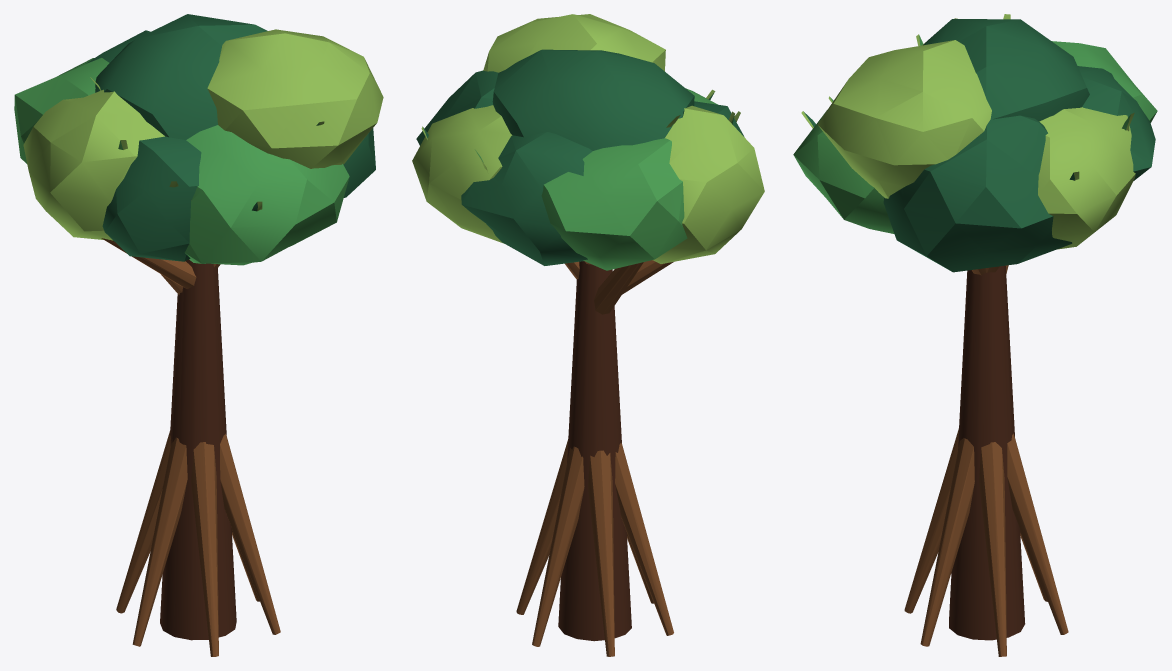
File: tree_oak_lod2.glb
3 views of the same model, side by side, from view 1: azimuth 30°, elevation 25°; view 2: azimuth 150°, elevation 25°; view 3: azimuth 270°, elevation 25° (orthographic). The views are drawn at different scales.
Parts seen in each view (by area): view 1: Flared sculpted trunk.002; view 2: Flared sculpted trunk.002; view 3: Flared sculpted trunk.002.
Part boxes in pixels (x1,y1,x2,y2): Flared sculpted trunk.002: [14, 14, 383, 656]; Flared sculpted trunk.002: [412, 14, 764, 656]; Flared sculpted trunk.002: [793, 14, 1157, 656].
Bounding box in the file's own units: 3.52 × 6.1 × 3.36.
